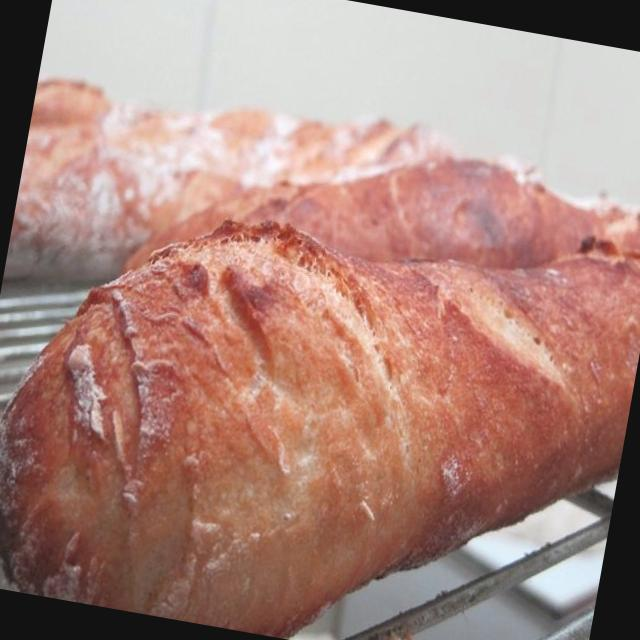Bread: (0, 0, 489, 480)
